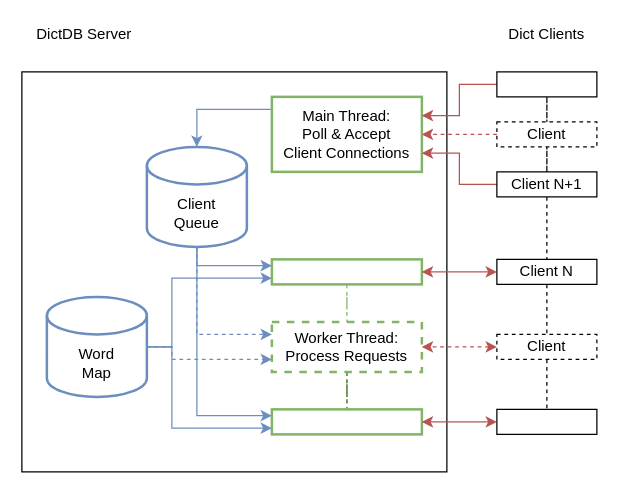
This 619x494 diagram has some shape labels left out. Each missing label, with the centre of its shape:
Client 1: the point at 546,421
Client N+M: the point at 546,84
Worker Thread 1: the point at 346,421
Worker Thread N: the point at 346,271
